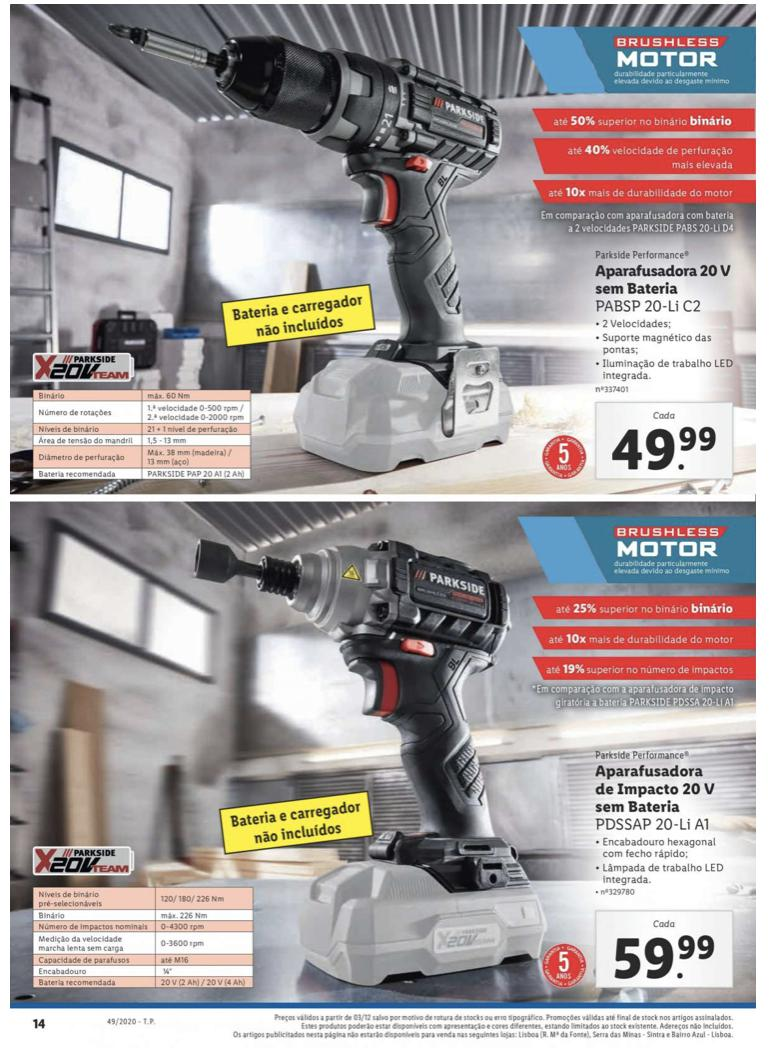name: (579, 257, 736, 304), (589, 760, 721, 815)
price: (606, 415, 721, 474), (606, 928, 715, 980)
product: (17, 13, 750, 491), (19, 512, 743, 993)
